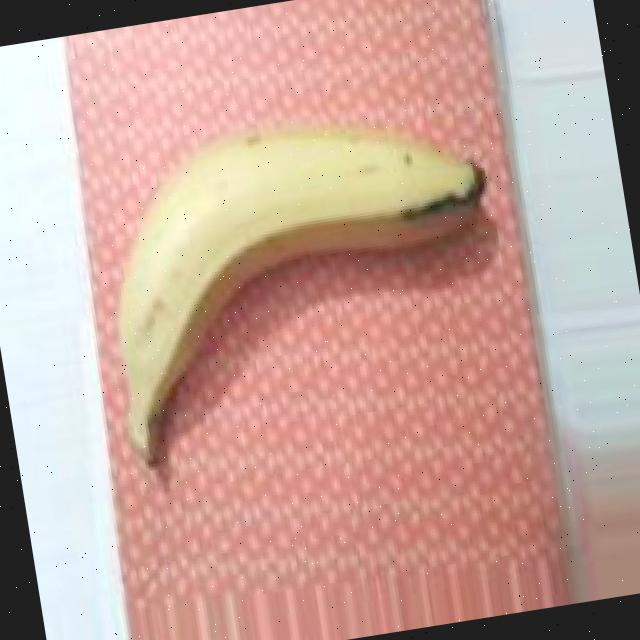banana: (58, 76, 538, 512)
